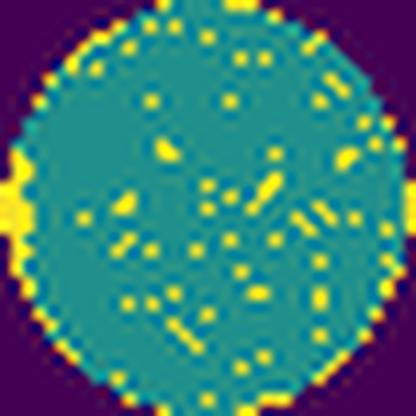Edge-Loc: (0, 149, 39, 300)
